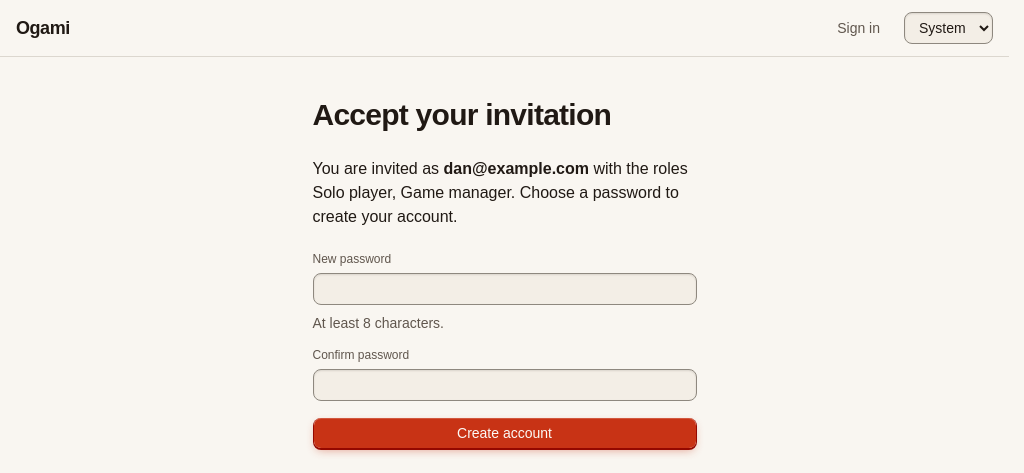
it: AcceptInvitationPage › shows the invalid link state when accepting is refused for the link
Expected: the heading "Accept your invitation" is shown, [312,98,611,131]
Type "a-new-password" into the password field labelled "New password".
click(504, 289); type("a-new-password")  # box [312,273,696,305]
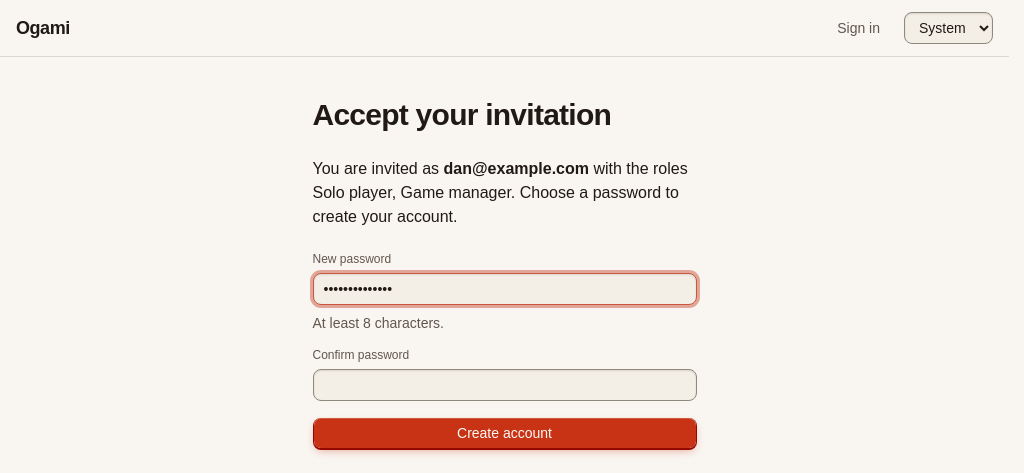
Type "a-new-password" into the password field labelled "Confirm password".
click(504, 385); type("a-new-password")  # box [312,369,696,401]
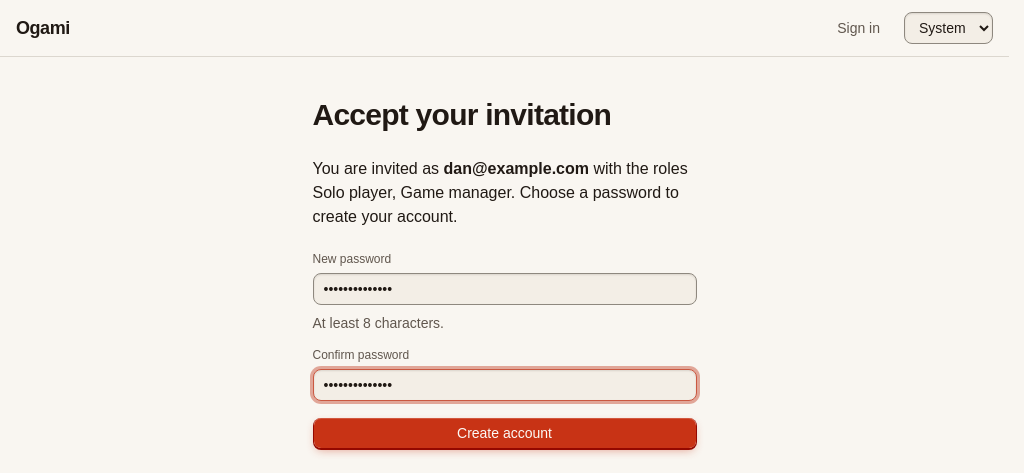
Click the button "Create account".
click(504, 433)  # box [312,417,696,449]
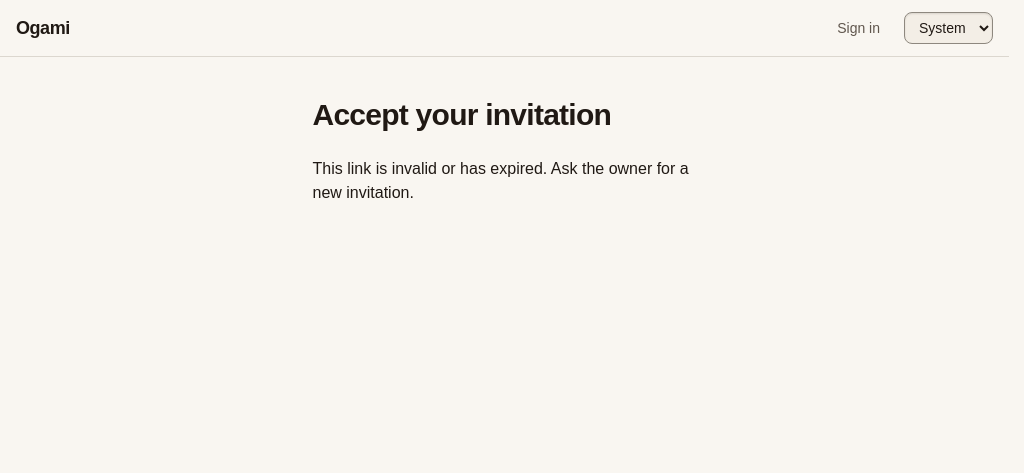
Expected: the text "This link is invalid or has expired. Ask the owner for a new invitation." is shown, [312,157,696,205]
